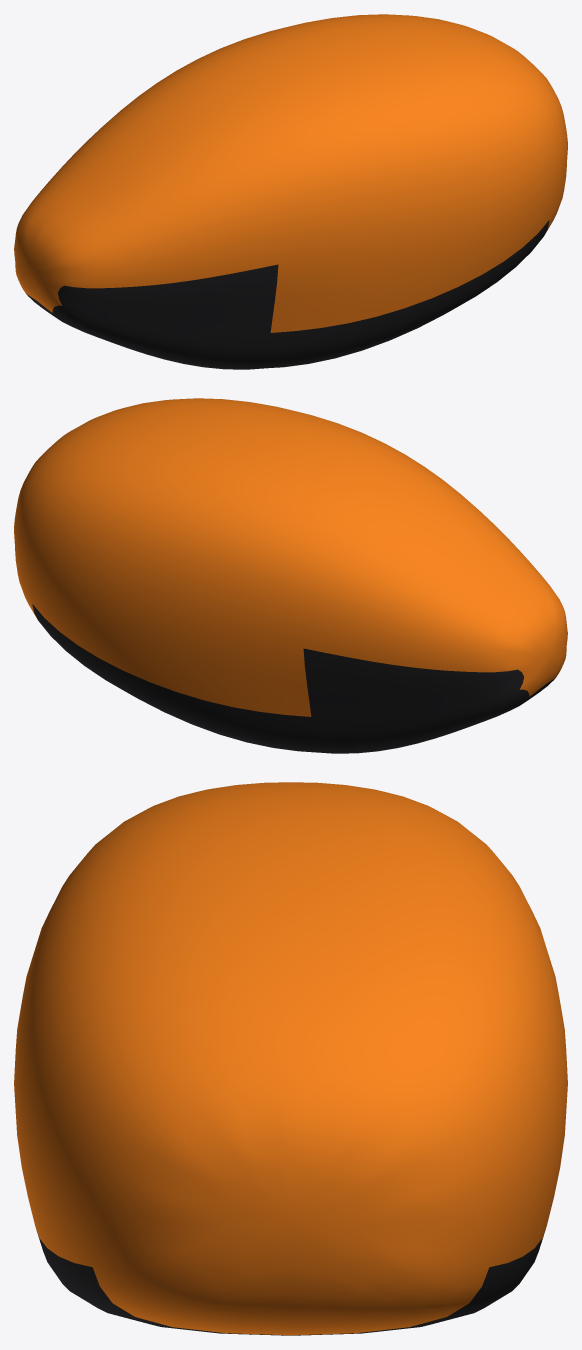
The model's file is bike_superbike__fuel_tank.glb.
3 views of the same model, one above another, from view 1: azimuth 30°, elevation 25°; view 2: azimuth 150°, elevation 25°; view 3: azimuth 270°, elevation 25° (orthographic). The views are drawn at different scales.
Visible parts, largest first — view 1: frame_body__fuel_tank; view 2: frame_body__fuel_tank; view 3: frame_body__fuel_tank.
Part boxes in pixels (left/top/right/bottom): frame_body__fuel_tank: left=14, top=14, right=567, bottom=369; frame_body__fuel_tank: left=14, top=398, right=567, bottom=753; frame_body__fuel_tank: left=14, top=782, right=567, bottom=1335.
Size of the model in its own units: 54.55 by 27.55 by 30.4.
